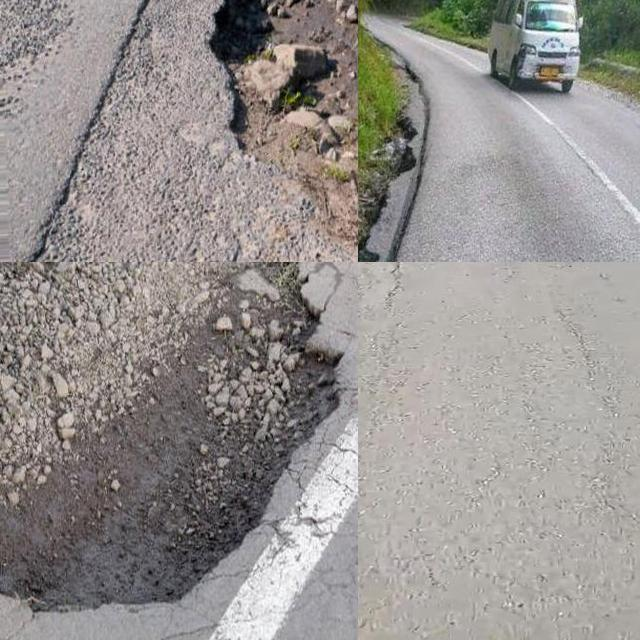Pinggir: (0, 262, 358, 631), (189, 0, 358, 262), (358, 69, 446, 262)
